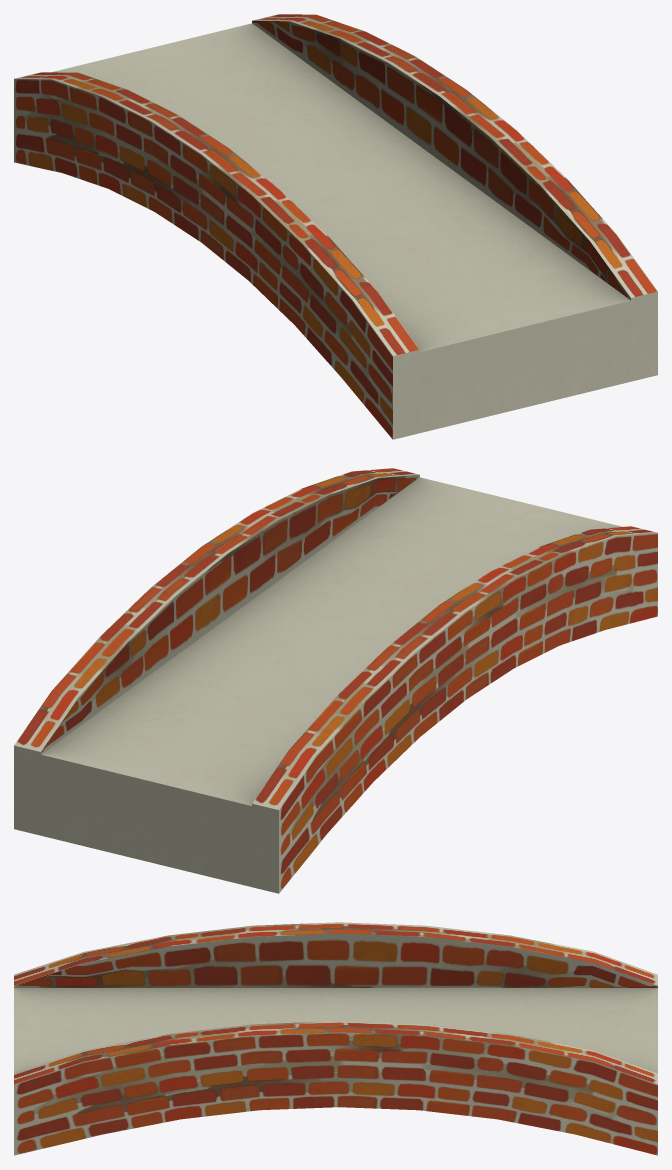
The model's file is Bridge_Kyokusen.fbx.
3 views of the same model, one above another, from view 1: azimuth 30°, elevation 25°; view 2: azimuth 150°, elevation 25°; view 3: azimuth 270°, elevation 25° (orthographic). The views are drawn at different scales.
Parts seen in each view (by area): view 1: hasi1; view 2: hasi1; view 3: hasi1.
Boxes of the visible parts, left/top/right/bottom form: hasi1: left=14, top=14, right=657, bottom=439; hasi1: left=14, top=468, right=657, bottom=893; hasi1: left=14, top=922, right=657, bottom=1155.
Size of the model in its own units: 129 by 67.34 by 318.
Materials: 1 (1 with a texture image).
